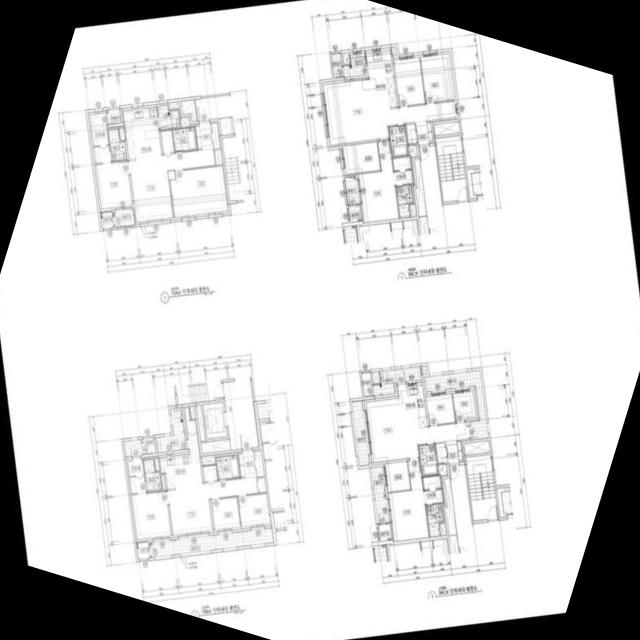background: (0, 0, 640, 640)
space_balconi: (425, 370, 488, 439), (149, 528, 274, 557), (373, 366, 421, 396), (155, 407, 186, 453), (351, 400, 369, 466), (371, 466, 388, 523), (343, 53, 367, 80), (157, 105, 180, 129), (345, 176, 360, 204), (112, 208, 134, 226)
space_bedroom: (389, 459, 429, 541), (359, 140, 398, 222), (170, 165, 227, 217), (131, 490, 171, 539), (95, 161, 132, 209), (420, 53, 454, 103), (394, 57, 425, 106), (238, 493, 270, 526), (211, 497, 240, 529), (426, 394, 455, 425), (452, 391, 475, 421)
space_dressroom: (89, 113, 111, 163), (127, 457, 146, 493), (422, 475, 443, 504), (392, 156, 413, 185)
space_elevator: (203, 402, 227, 439)
space_elevator_hall: (223, 379, 258, 450)
space_front: (195, 121, 220, 150), (238, 449, 256, 478), (415, 121, 433, 145), (445, 440, 463, 462)
space_kitchen: (159, 408, 202, 488), (123, 107, 162, 159), (365, 49, 397, 109), (397, 384, 427, 430)
space_living_room: (323, 79, 456, 144), (366, 398, 468, 462), (129, 148, 215, 221), (167, 476, 258, 534)
space_multipurpose_space: (343, 142, 380, 174), (385, 461, 410, 491)
space_other: (444, 478, 457, 535), (414, 159, 427, 216), (123, 437, 155, 456), (201, 439, 231, 453), (464, 440, 490, 454), (434, 121, 460, 135), (181, 99, 196, 121), (196, 405, 205, 441), (361, 372, 373, 397), (331, 53, 343, 78), (161, 130, 174, 153), (405, 123, 417, 144), (254, 451, 264, 476), (202, 465, 217, 481), (106, 108, 121, 124), (219, 117, 232, 135), (435, 442, 446, 463), (257, 477, 266, 492), (201, 456, 215, 465), (214, 149, 222, 164), (372, 371, 380, 383), (438, 463, 446, 475), (408, 144, 416, 156), (180, 118, 189, 127), (439, 523, 445, 535), (409, 204, 415, 216), (119, 128, 125, 140), (343, 54, 350, 64), (168, 103, 178, 110), (190, 407, 195, 419), (154, 458, 159, 470), (161, 474, 165, 489), (421, 365, 427, 374), (391, 48, 396, 55)
space_outdoor_room: (378, 523, 391, 541), (348, 205, 361, 222), (100, 211, 113, 228)
space_staircase: (436, 135, 468, 202), (466, 454, 498, 520)
space_toilet: (418, 444, 438, 476), (388, 125, 408, 157), (108, 128, 126, 161), (426, 503, 443, 537), (396, 184, 413, 218), (143, 459, 161, 491), (216, 455, 240, 479), (172, 127, 196, 151)
